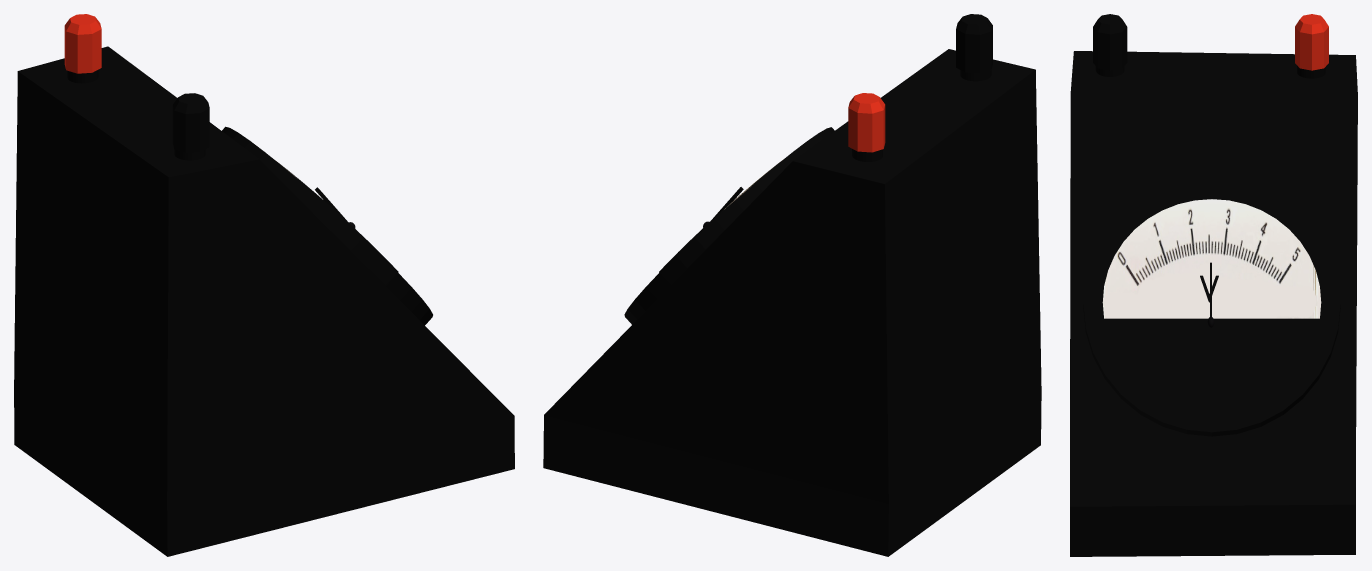
Rendered from Voltmeter.fbx.
The picture shows the model from 3 angles, left to right: view 1: azimuth 30°, elevation 25°; view 2: azimuth 150°, elevation 25°; view 3: azimuth 270°, elevation 25°; orthographic projection. The views are drawn at different scales.
Visible parts, largest first — view 1: Cube, Cylinder.004, Cylinder.001, Cylinder; view 2: Cube, Cylinder.004, Cylinder.001, Cylinder; view 3: Cube, Cylinder.004, Cylinder.002, Cylinder, Cylinder.001.
Boxes of the visible parts, x1,y1,x2,y2 form: Cube: [14, 46, 514, 556]; Cylinder.004: [222, 126, 432, 325]; Cylinder.001: [64, 14, 101, 73]; Cylinder: [172, 93, 209, 152]; Cube: [543, 49, 1041, 556]; Cylinder.004: [624, 127, 834, 324]; Cylinder.001: [848, 93, 885, 152]; Cylinder: [956, 14, 992, 73]; Cube: [1070, 51, 1357, 556]; Cylinder.004: [1083, 174, 1340, 436]; Cylinder.002: [1102, 199, 1321, 319]; Cylinder: [1093, 14, 1127, 70]; Cylinder.001: [1295, 14, 1328, 70].
Bounding box in the file's own units: 11.25 × 13.34 × 8.64.
